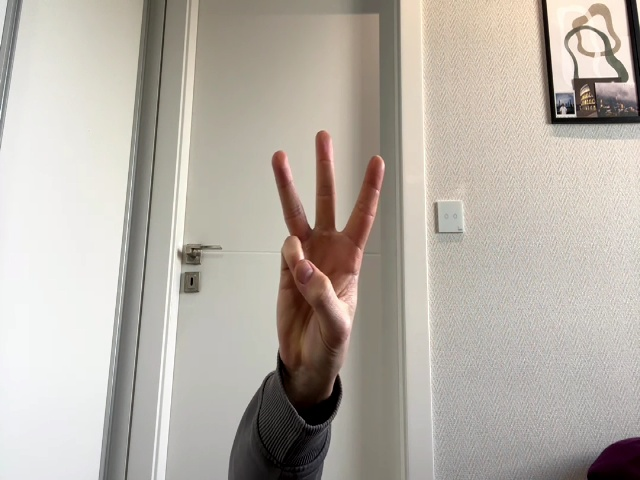W: (272, 130, 385, 377)
